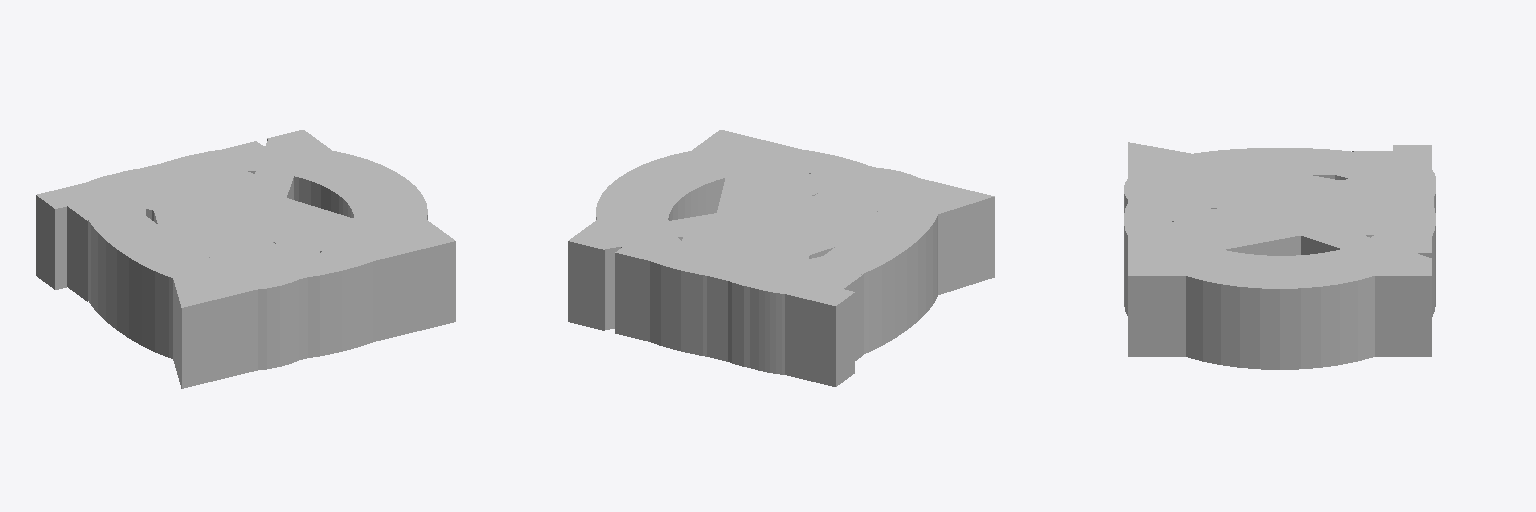
Rendered from char-min.obj.
3 views of the same model, side by side, from view 1: azimuth 30°, elevation 25°; view 2: azimuth 150°, elevation 25°; view 3: azimuth 270°, elevation 25° (orthographic).
Visible parts, largest first — view 1: 0, A, O, D, 2, M, R, N, T, P, E, 1; view 2: 0, A, O, T, M, 2, N, D, E, R, P, 1; view 3: O, M, A, D, R, 0, T, N, 2, E, P, 1.
Part boxes in pixels (x1,y1,x2,y2): 0: (85, 167, 320, 369); A: (142, 162, 438, 388); O: (103, 146, 427, 357); D: (115, 154, 396, 379); 2: (62, 171, 360, 384); M: (104, 130, 455, 378); R: (103, 165, 414, 381); N: (72, 130, 454, 378); T: (36, 141, 307, 289); P: (57, 163, 278, 381); E: (86, 153, 360, 380); 1: (110, 170, 287, 284); 0: (704, 167, 938, 367); A: (701, 134, 994, 361); O: (596, 146, 917, 356); T: (615, 164, 889, 386); M: (568, 130, 962, 380); 2: (712, 154, 980, 374); N: (569, 130, 960, 381); D: (625, 154, 963, 381); E: (664, 152, 965, 381); R: (690, 143, 959, 340); P: (680, 182, 966, 381); 1: (729, 171, 915, 277); O: (1124, 151, 1435, 369); M: (1128, 156, 1431, 356); A: (1128, 142, 1433, 267); D: (1128, 156, 1431, 272); R: (1128, 161, 1424, 254); 0: (1124, 148, 1435, 227); T: (1128, 145, 1431, 257); N: (1128, 167, 1431, 274); 2: (1128, 148, 1435, 223); E: (1128, 177, 1300, 230); P: (1129, 155, 1431, 237); 1: (1128, 180, 1428, 198).
Size of the model in its own units: 0.778 by 0.2 by 0.7.